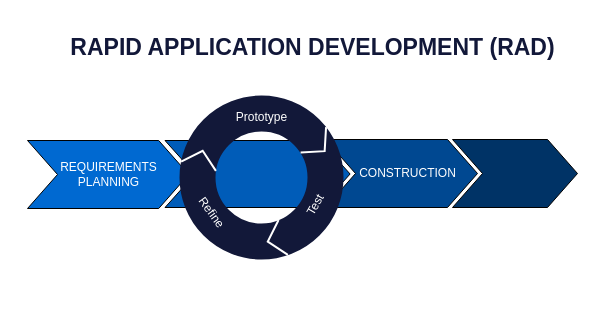
Some shapes in this 604 by 334 pixel diagram are drawn without their labels. Here are the shapes that lost their labels. From the top down, the box of each, then its label:
(179, 95, 343, 259): USER DESIGN
(452, 138, 578, 208): CUTOVER
